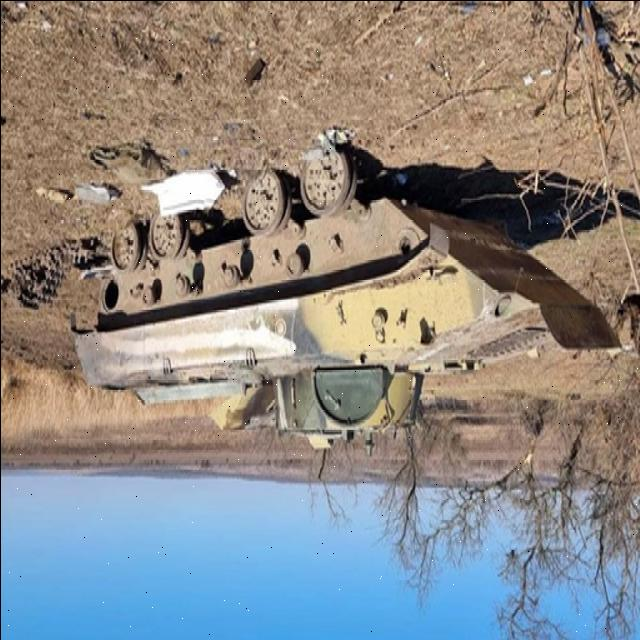APC-IFV: (71, 126, 615, 466)
